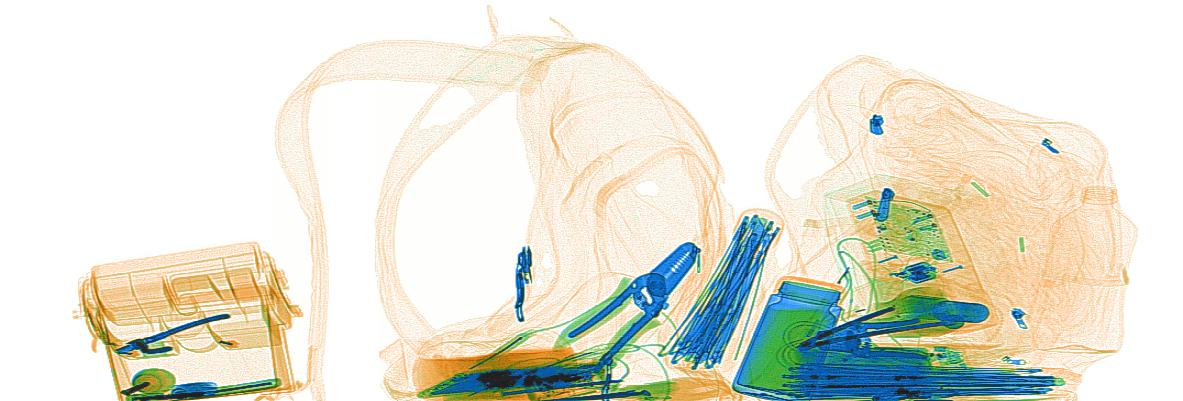battery: (933, 296, 989, 323)
scissors: (561, 374, 729, 398)
